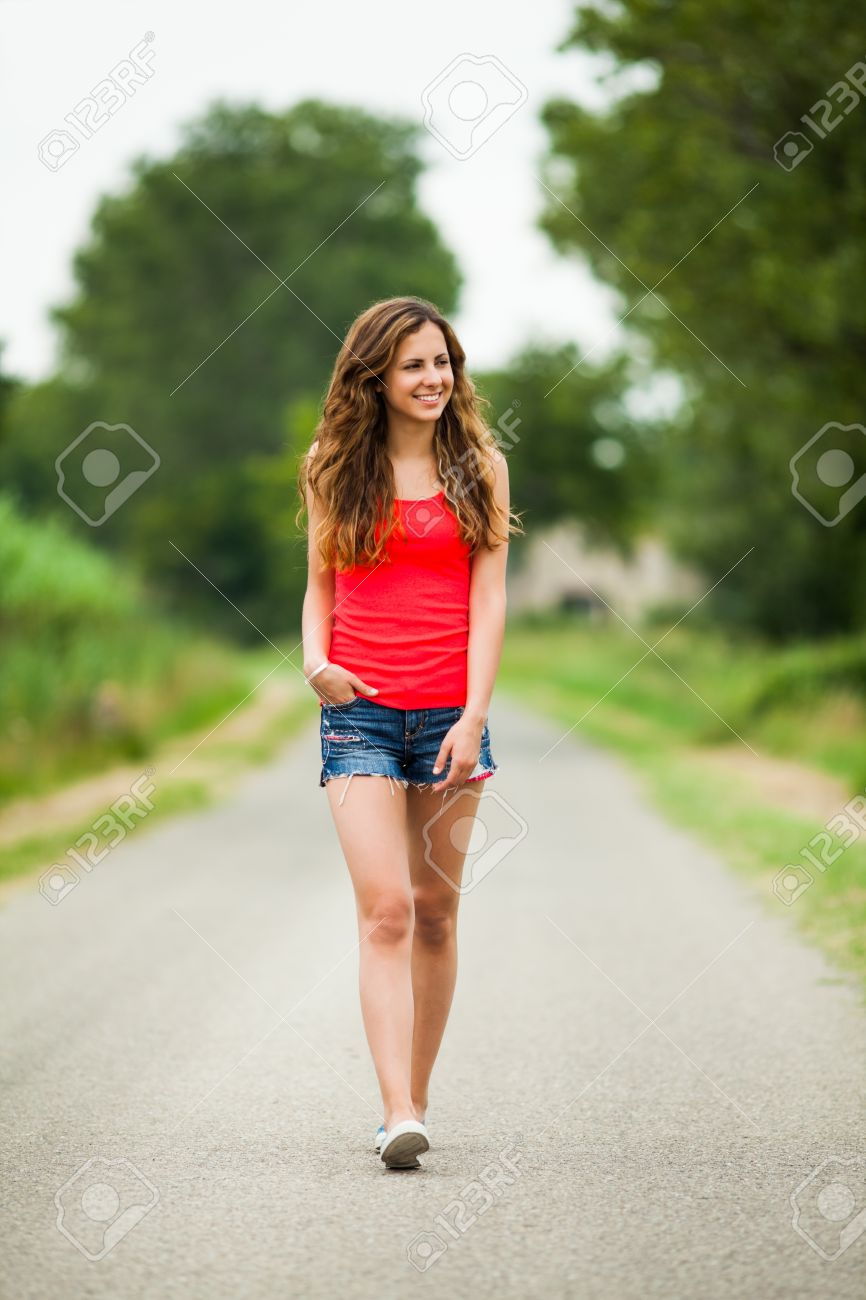Person: (291, 297, 524, 1172)
